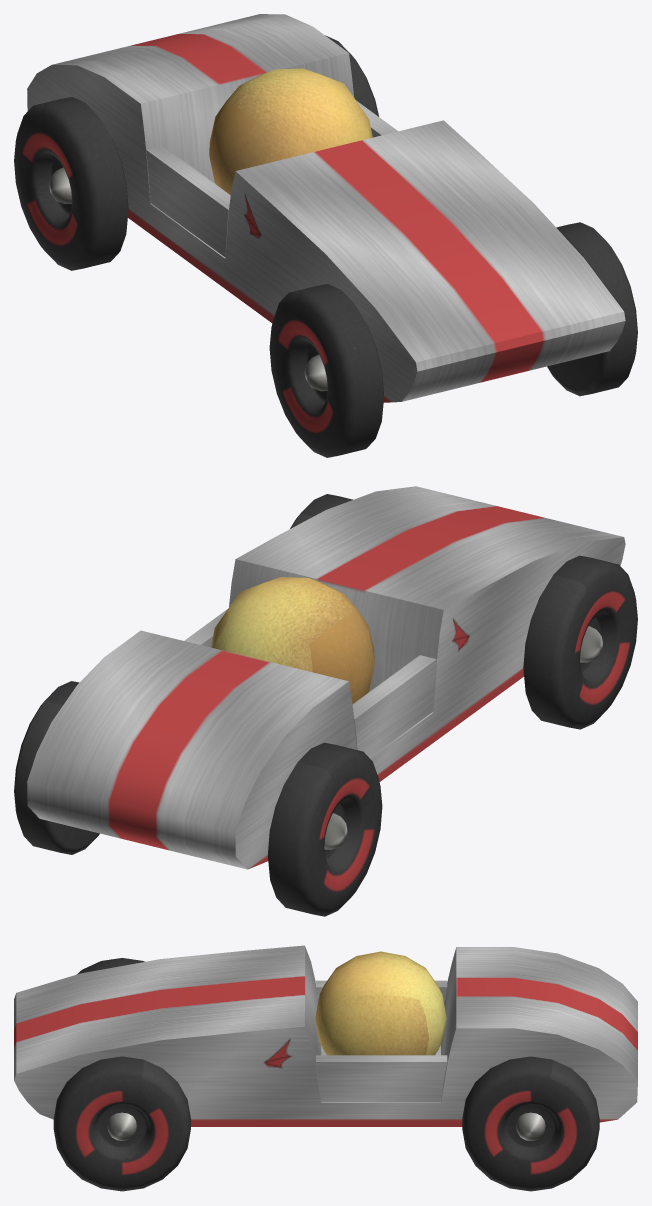
Rendered from SK_Car.fbx.
3 renders of one model, top to bottom at view 1: azimuth 30°, elevation 25°; view 2: azimuth 150°, elevation 25°; view 3: azimuth 270°, elevation 25°, orthographic. The views are drawn at different scales.
Visible parts, largest first — view 1: carBody, wheelA, wheelB, ball, wheelC, doorA, wheelD, pegA, pegB; view 2: carBody, wheelA, wheelB, ball, doorA, wheelD, wheelC, pegB, pegA; view 3: carBody, wheelD, wheelC, ball, doorB, pegD, pegC, wheelA.
Boxes of the visible parts, left/top/right/bottom form: carBody: left=27, top=14, right=625, bottom=402; wheelA: left=269, top=284, right=383, bottom=457; wheelB: left=14, top=97, right=128, bottom=270; ball: left=209, top=68, right=372, bottom=194; wheelC: left=547, top=222, right=637, bottom=396; doorA: left=146, top=146, right=230, bottom=256; wheelD: left=325, top=35, right=378, bottom=116; pegA: left=304, top=354, right=327, bottom=391; pegB: left=49, top=167, right=71, bottom=204; carBody: left=27, top=486, right=625, bottom=869; wheelA: left=523, top=555, right=637, bottom=729; wheelB: left=268, top=742, right=382, bottom=916; ball: left=211, top=577, right=374, bottom=704; doorA: left=352, top=655, right=436, bottom=757; wheelD: left=14, top=681, right=99, bottom=854; wheelC: left=290, top=494, right=352, bottom=528; pegB: left=324, top=813, right=347, bottom=849; pegA: left=580, top=626, right=602, bottom=662; carBody: left=14, top=945, right=637, bottom=1126; wheelD: left=462, top=1056, right=599, bottom=1191; wheelC: left=53, top=1056, right=190, bottom=1191; ball: left=315, top=951, right=446, bottom=1055; doorB: left=316, top=1055, right=447, bottom=1101; pegD: left=516, top=1112, right=545, bottom=1140; pegC: left=107, top=1112, right=136, bottom=1140; wheelA: left=77, top=958, right=144, bottom=974.
Size of the model in its own units: 8.11 by 5.82 by 18.46.
